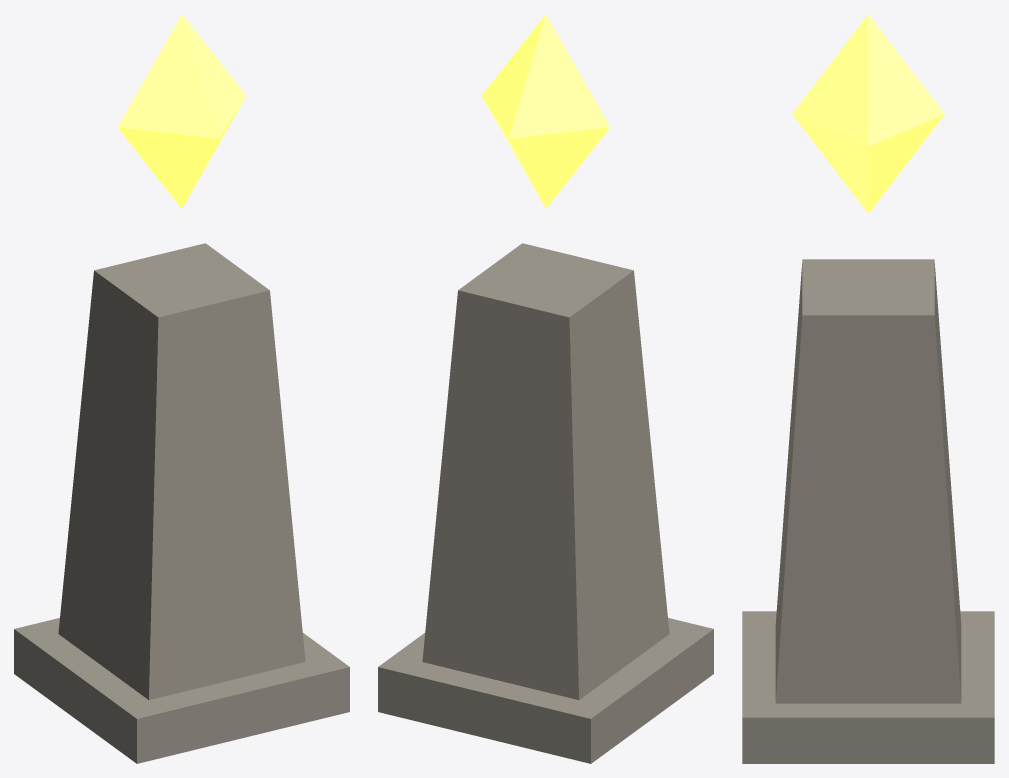
The model's file is goal_beacon.glb.
The picture shows the model from 3 angles, left to right: view 1: azimuth 30°, elevation 25°; view 2: azimuth 150°, elevation 25°; view 3: azimuth 270°, elevation 25°; orthographic projection. The views are drawn at different scales.
Visible parts, largest first — view 1: BeaconPillar, Crystal; view 2: BeaconPillar, Crystal; view 3: BeaconPillar, Crystal.
Part boxes in pixels (x1,y1,x2,y2): BeaconPillar: (14, 243, 349, 763); Crystal: (117, 14, 246, 208); BeaconPillar: (378, 243, 713, 763); Crystal: (481, 14, 610, 208); BeaconPillar: (742, 259, 994, 763); Crystal: (792, 14, 944, 213).
Bounding box in the file's own units: 0.594 × 1.81 × 0.594.
